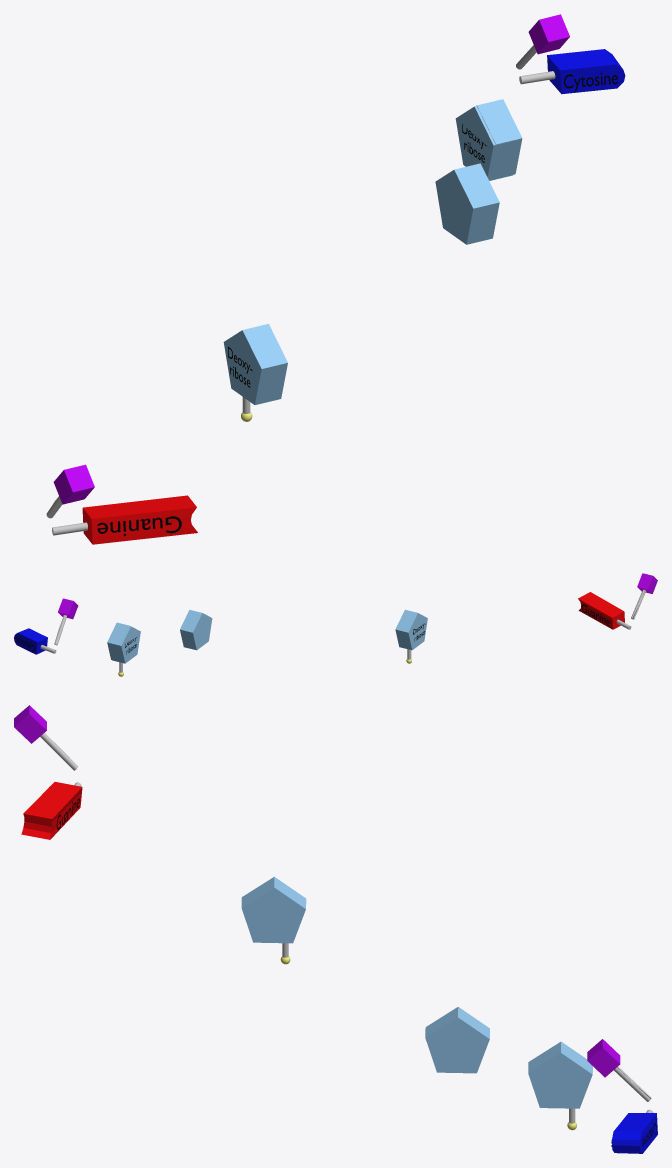
The model's file is cytosine.glb.
3 renders of one model, top to bottom at view 1: azimuth 30°, elevation 25°; view 2: azimuth 150°, elevation 25°; view 3: azimuth 270°, elevation 25°, orthographic. The views are drawn at different scales.
Visible parts, largest first — view 1: Deoxyribose.006 (×3), Connector_Ribose_Base.002, Connector_Ribose_Base.004, Deoxyribose.004, Phosphate.004, Phosphate.002; view 2: Deoxyribose.006 (×3), Connector_Ribose_Base.002, Deoxyribose.004, Connector_Ribose_Base.004, Phosphate.004, Phosphate.002; view 3: Deoxyribose.006 (×3), Connector_Ribose_Base.002, Connector_Ribose_Base.004, Phosphate.002, Phosphate.004.
Part boxes in pixels (bbox=[...]): Deoxyribose.006 (×3): bbox=[223, 99, 522, 404]; Connector_Ribose_Base.002: bbox=[52, 495, 197, 544]; Connector_Ribose_Base.004: bbox=[519, 49, 625, 94]; Deoxyribose.004: bbox=[455, 106, 519, 180]; Phosphate.004: bbox=[516, 14, 569, 69]; Phosphate.002: bbox=[46, 464, 94, 518]; Deoxyribose.006 (×3): bbox=[107, 609, 427, 659]; Connector_Ribose_Base.002: bbox=[578, 592, 631, 629]; Deoxyribose.004: bbox=[108, 626, 140, 663]; Connector_Ribose_Base.004: bbox=[14, 628, 56, 654]; Phosphate.004: bbox=[54, 598, 78, 645]; Phosphate.002: bbox=[631, 573, 657, 619]; Deoxyribose.006 (×3): bbox=[241, 876, 592, 1108]; Connector_Ribose_Base.002: bbox=[21, 782, 82, 839]; Connector_Ribose_Base.004: bbox=[612, 1109, 657, 1153]; Phosphate.002: bbox=[14, 705, 78, 770]; Phosphate.004: bbox=[587, 1039, 651, 1101].
Size of the model in its own units: 10.43 by 1.59 by 7.59.
